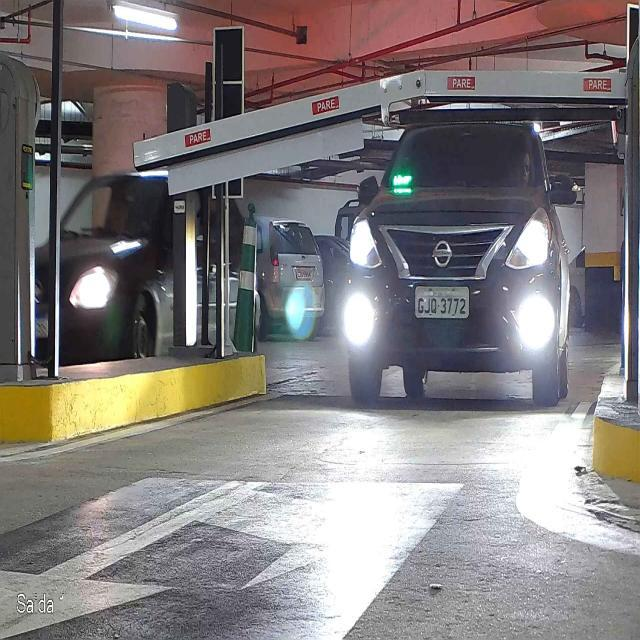old_plate: (414, 285, 471, 320)
